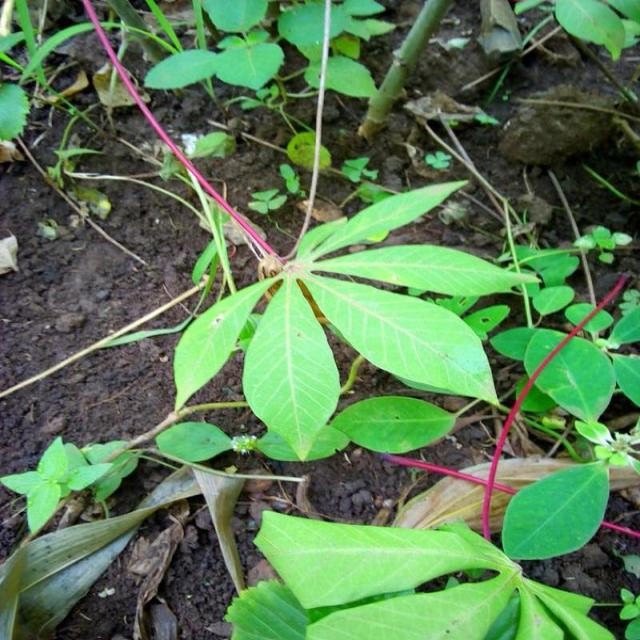cassava leaf: (252, 508, 522, 611), (242, 272, 342, 461), (502, 459, 611, 561)
